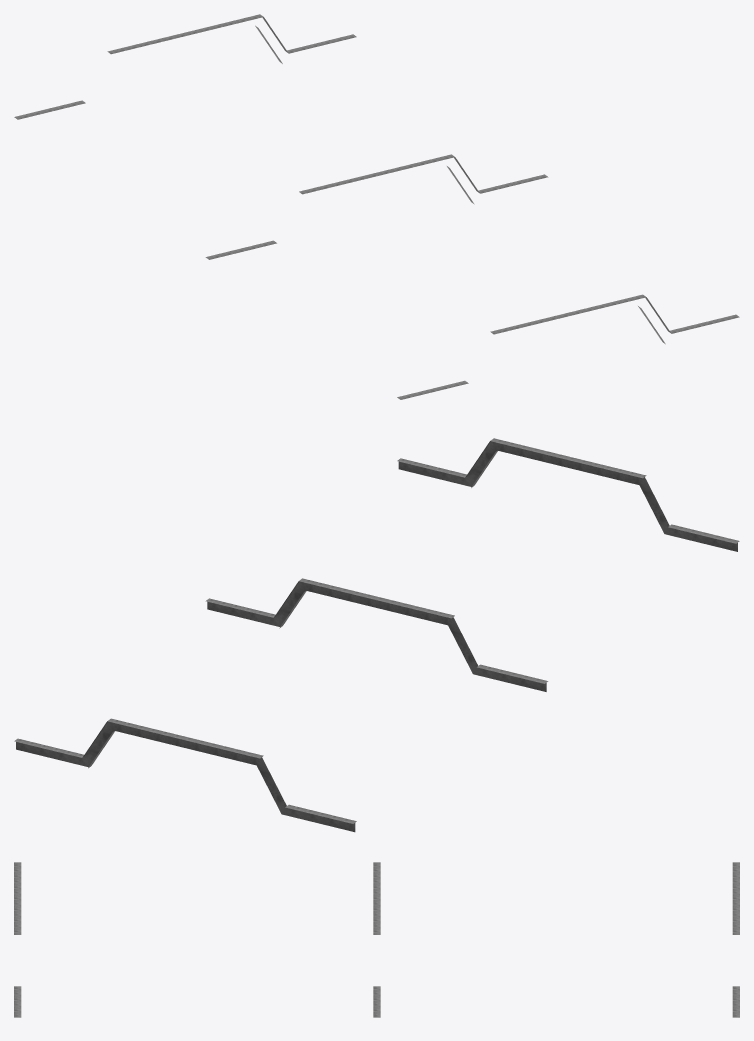
File: AMB_KISO_IRON.glb
3 views of the same model, one above another, from view 1: azimuth 30°, elevation 25°; view 2: azimuth 150°, elevation 25°; view 3: azimuth 270°, elevation 25° (orthographic). The views are drawn at different scales.
Visible parts, largest first — view 1: BASE; view 2: BASE; view 3: BASE.
Part boxes in pixels (x1,y1,x2,y2): BASE: (14, 14, 739, 399); BASE: (14, 438, 739, 832); BASE: (14, 862, 739, 1017).
Bounding box in the file's own units: 51.17 × 7.55 × 101.
Materials: 1 (1 with a texture image).
